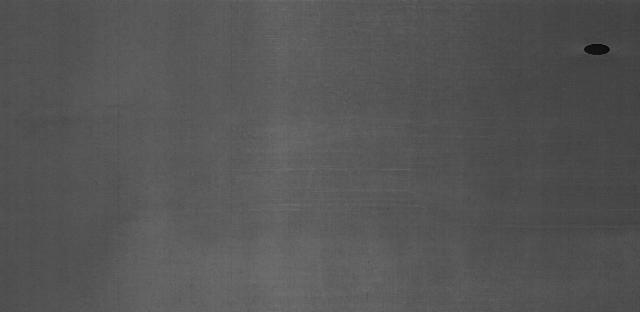punching_hole: (580, 39, 614, 59)
